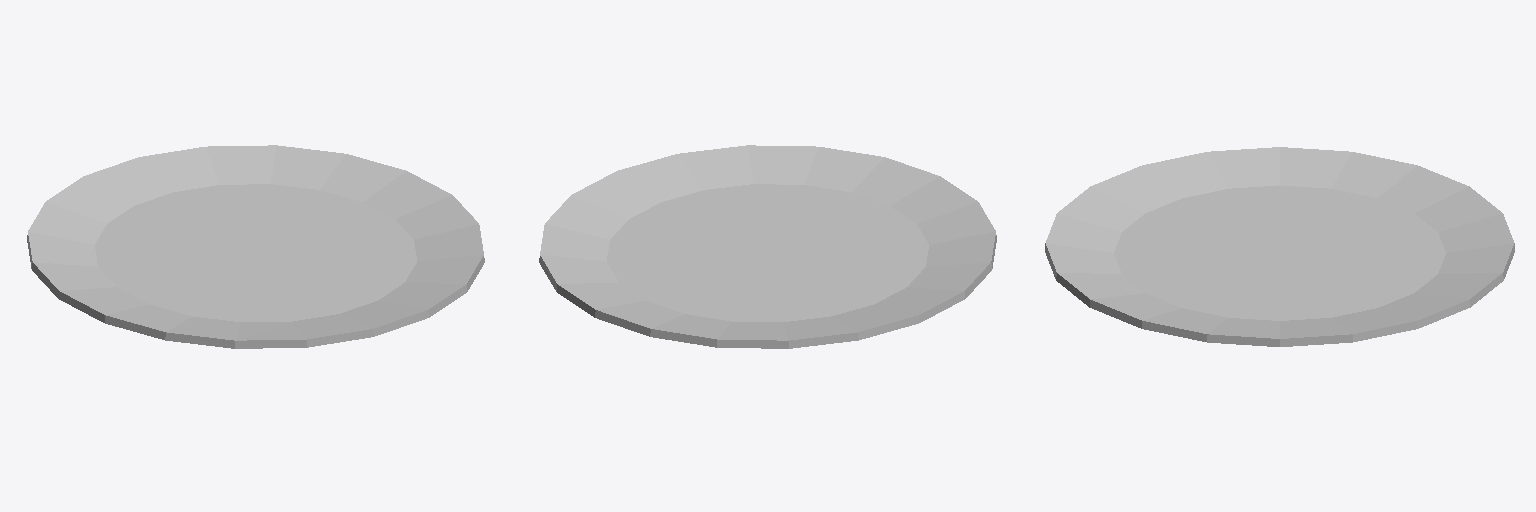
The model's file is Plate.obj.
3 views of the same model, side by side, from view 1: azimuth 30°, elevation 25°; view 2: azimuth 150°, elevation 25°; view 3: azimuth 270°, elevation 25° (orthographic).
Parts seen in each view (by area): view 1: pCylinder379; view 2: pCylinder379; view 3: pCylinder379.
Boxes of the visible parts, <box> form: pCylinder379: <box>27,145,484,348</box>; pCylinder379: <box>539,145,996,348</box>; pCylinder379: <box>1045,147,1514,346</box>.
Size of the model in its own units: 1.79 by 0.1122 by 1.84.